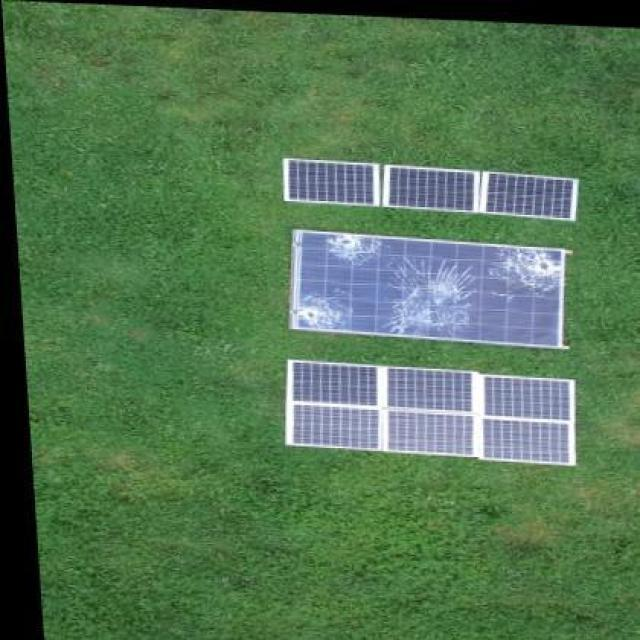cracked: (286, 234, 572, 348)
